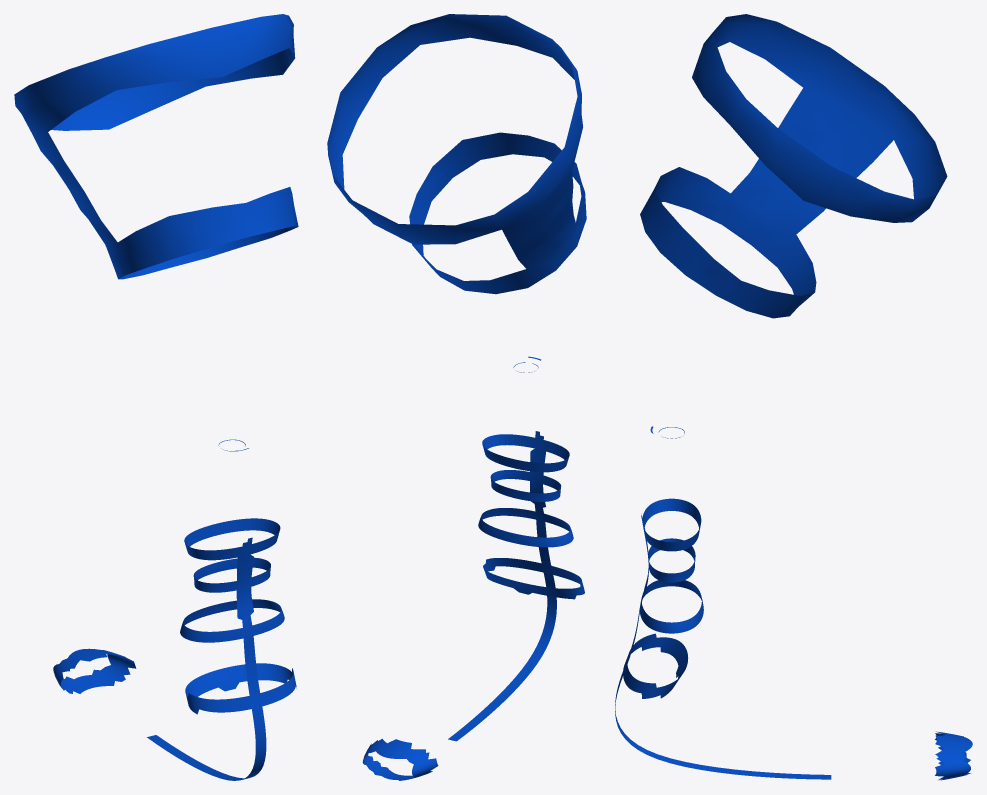
Rendered from EKEvil(bl).obj.
3 renders of one model, left to right at view 1: azimuth 30°, elevation 25°; view 2: azimuth 150°, elevation 25°; view 3: azimuth 270°, elevation 25°, orthographic. The views are drawn at different scales.
Visible parts, largest first — view 1: Blue_Cube.006; view 2: Blue_Cube.006; view 3: Blue_Cube.006.
Boxes of the visible parts, box(x1,y1,x2,y2) form: Blue_Cube.006: box(14, 14, 298, 780); Blue_Cube.006: box(327, 14, 586, 780); Blue_Cube.006: box(615, 14, 972, 780).
Bounding box in the file's own units: 1.38 × 4 × 1.75.
